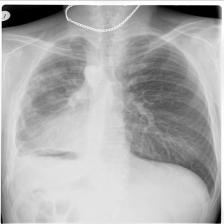tuberculosis: (1, 30, 221, 211)
